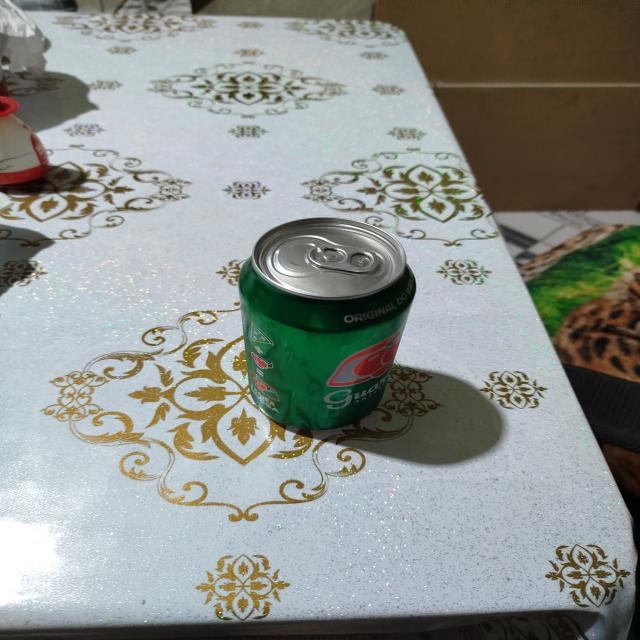Guarana: (235, 218, 418, 431)
